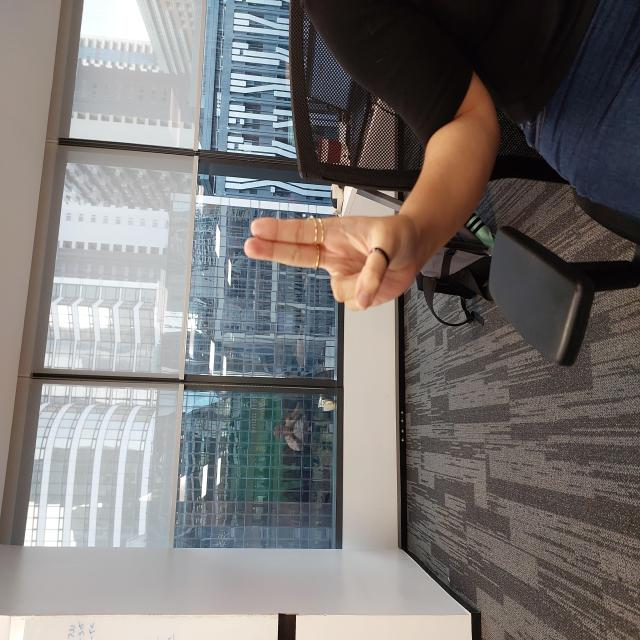U: (326, 243, 429, 428)
